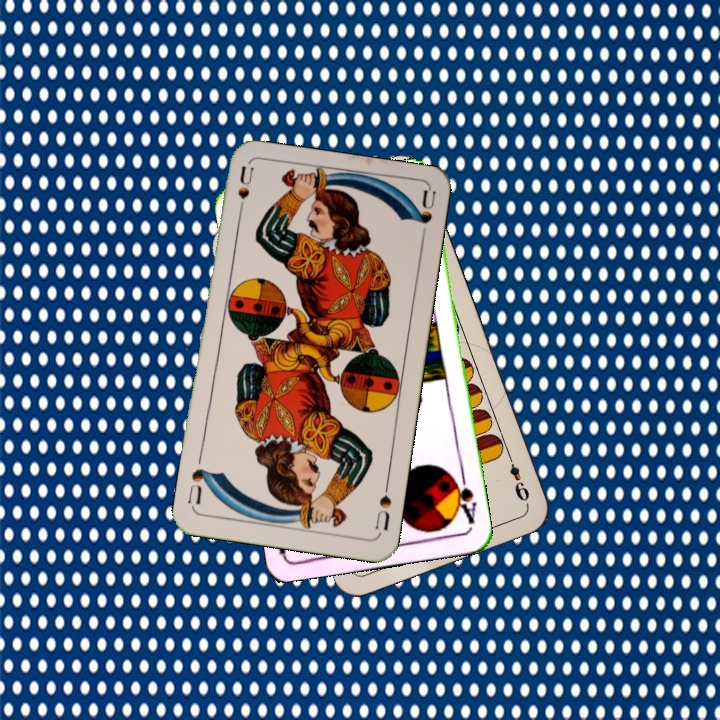E9: (503, 450, 532, 504)
SA: (448, 469, 480, 527)
SU: (233, 163, 257, 223), (371, 477, 394, 536)
